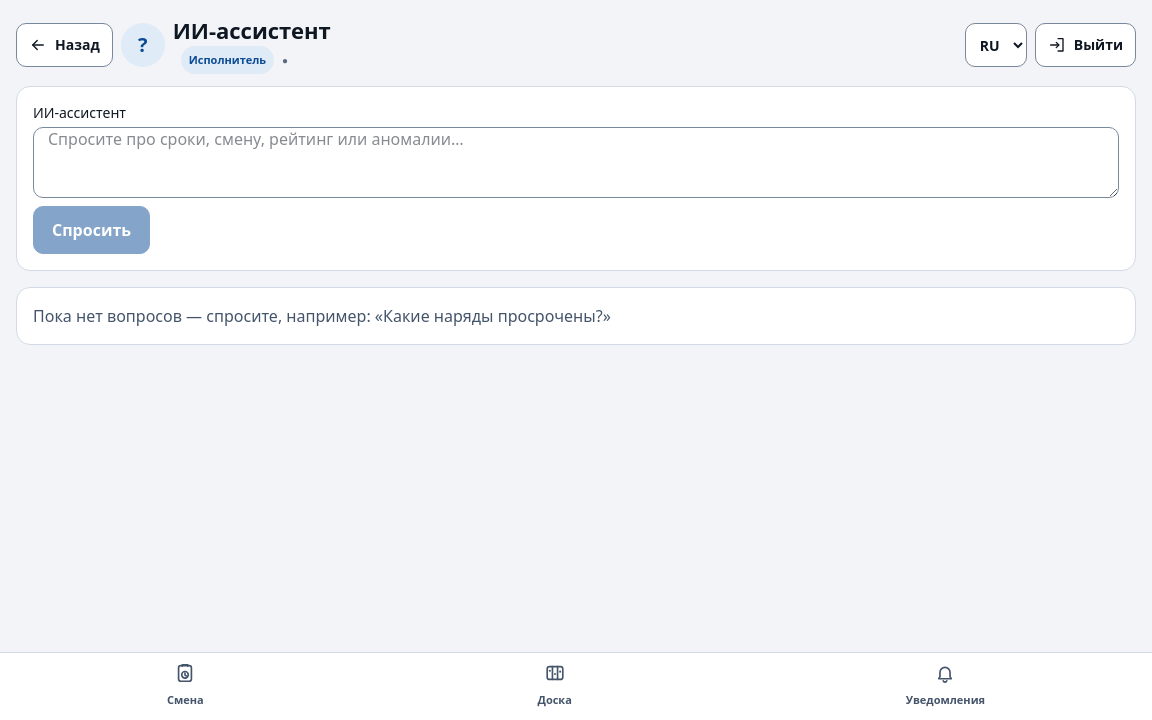
Scenario: AssistantPage › renders answer text with citation links to live orders
In the text box labelled "ИИ-ассистент": (576, 162) [33,127,1119,198], type "Какие наряды просрочены?"
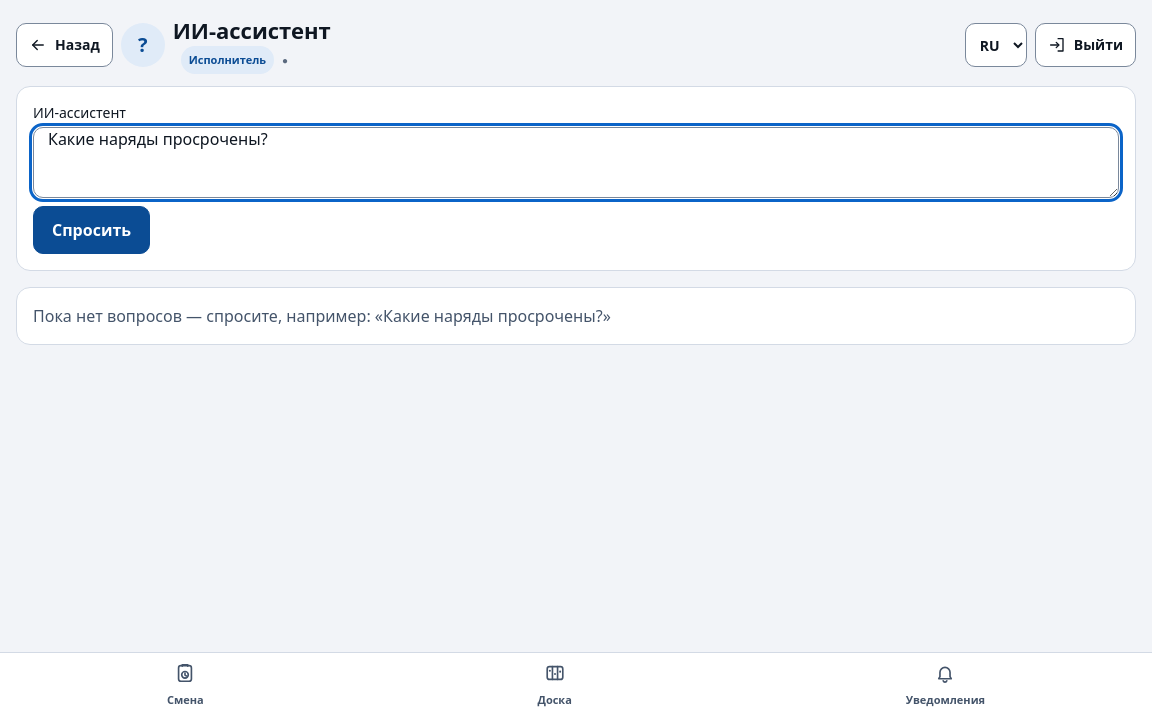
Click the button "Спросить": (92, 230) [33,206,150,254]
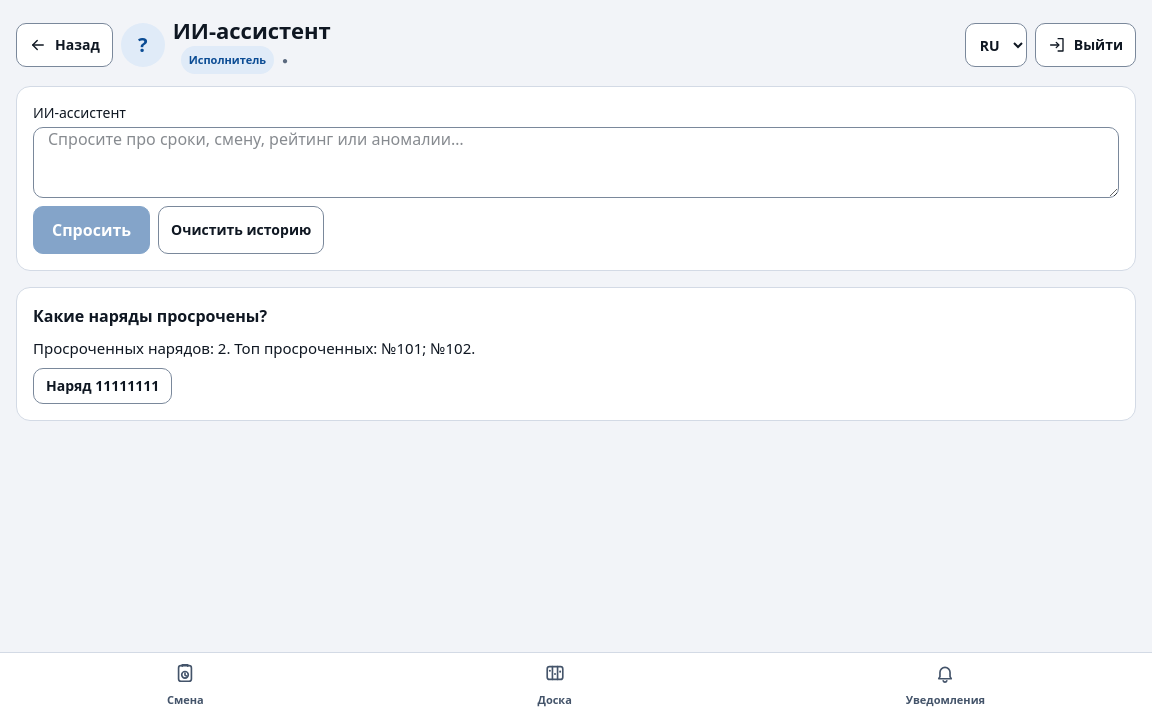
Expected: the text "Просроченных нарядов: 2. Топ просроченных: №101; №102." is shown, [33,338,475,358]
